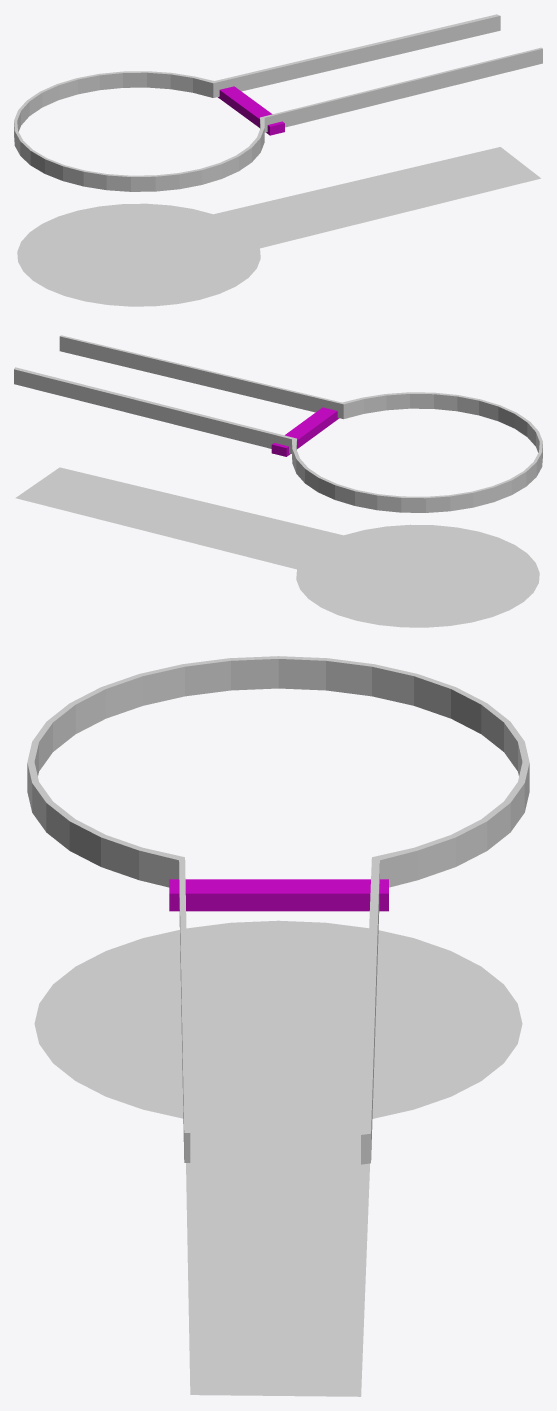
File: boss1Level.fbx
3 renders of one model, top to bottom at view 1: azimuth 30°, elevation 25°; view 2: azimuth 150°, elevation 25°; view 3: azimuth 270°, elevation 25°, orthographic. The views are drawn at different scales.
Parts seen in each view (by area): view 1: Circle.001, Circle, Cube; view 2: Circle.001, Circle, Cube; view 3: Circle.001, Circle, Cube.
Part boxes in pixels (x1,y1,x2,y2): Circle.001: (17, 147, 540, 306); Circle: (14, 14, 542, 191); Cube: (218, 86, 284, 135); Circle.001: (15, 467, 539, 627); Circle: (14, 335, 542, 512); Cube: (271, 407, 339, 456); Circle.001: (34, 920, 522, 1396); Circle: (27, 656, 529, 1164); Cube: (169, 879, 388, 911).
Size of the model in its own units: 464 by 118 by 206.
